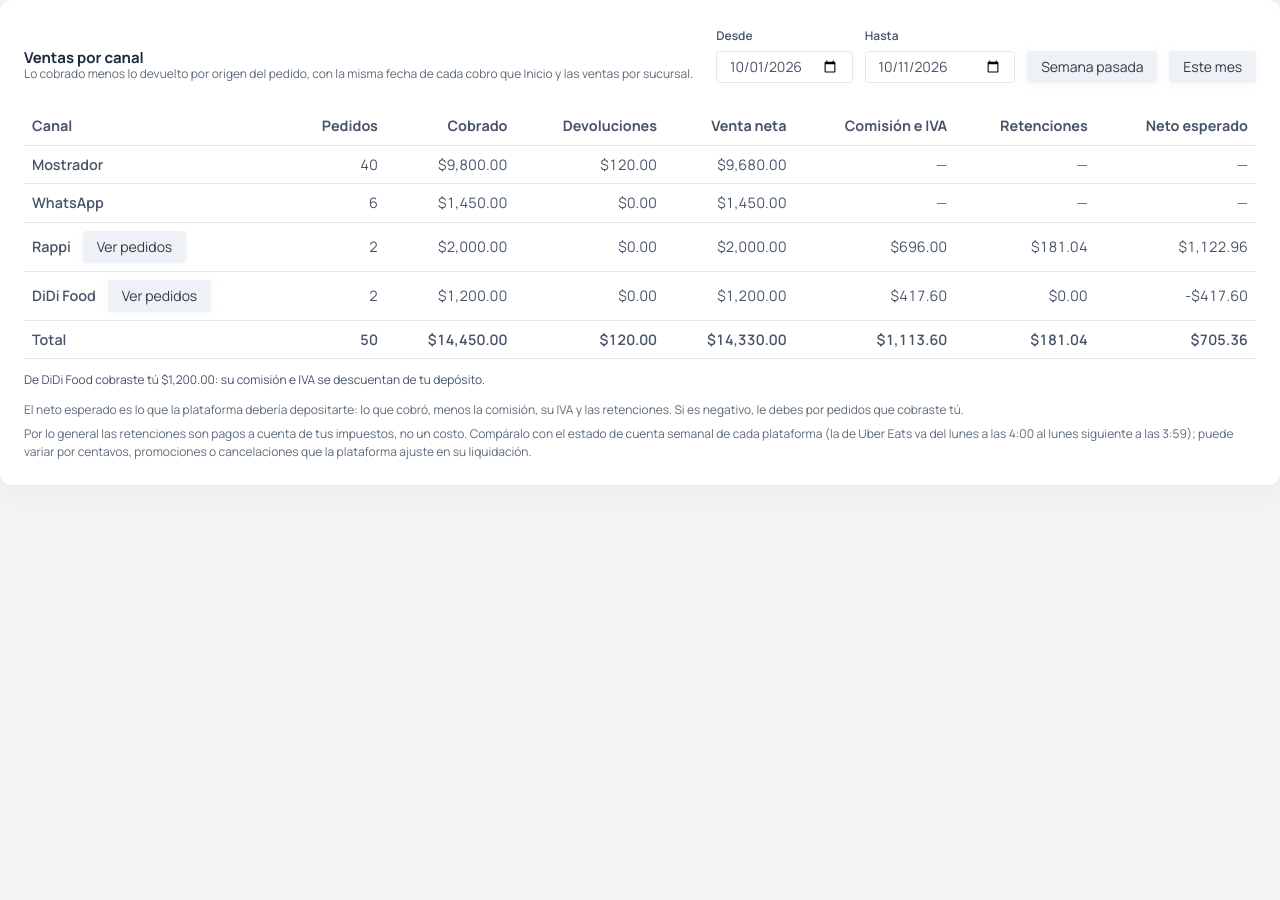
Scenario: SalesByChannelCard › lists the orders of a platform in the period of the report, each with what it copied when it was registered
The image size is (1280, 900).
Click the button with aria-label "Ver pedidos de Rappi" at (134, 247), box [83,231,186,263]
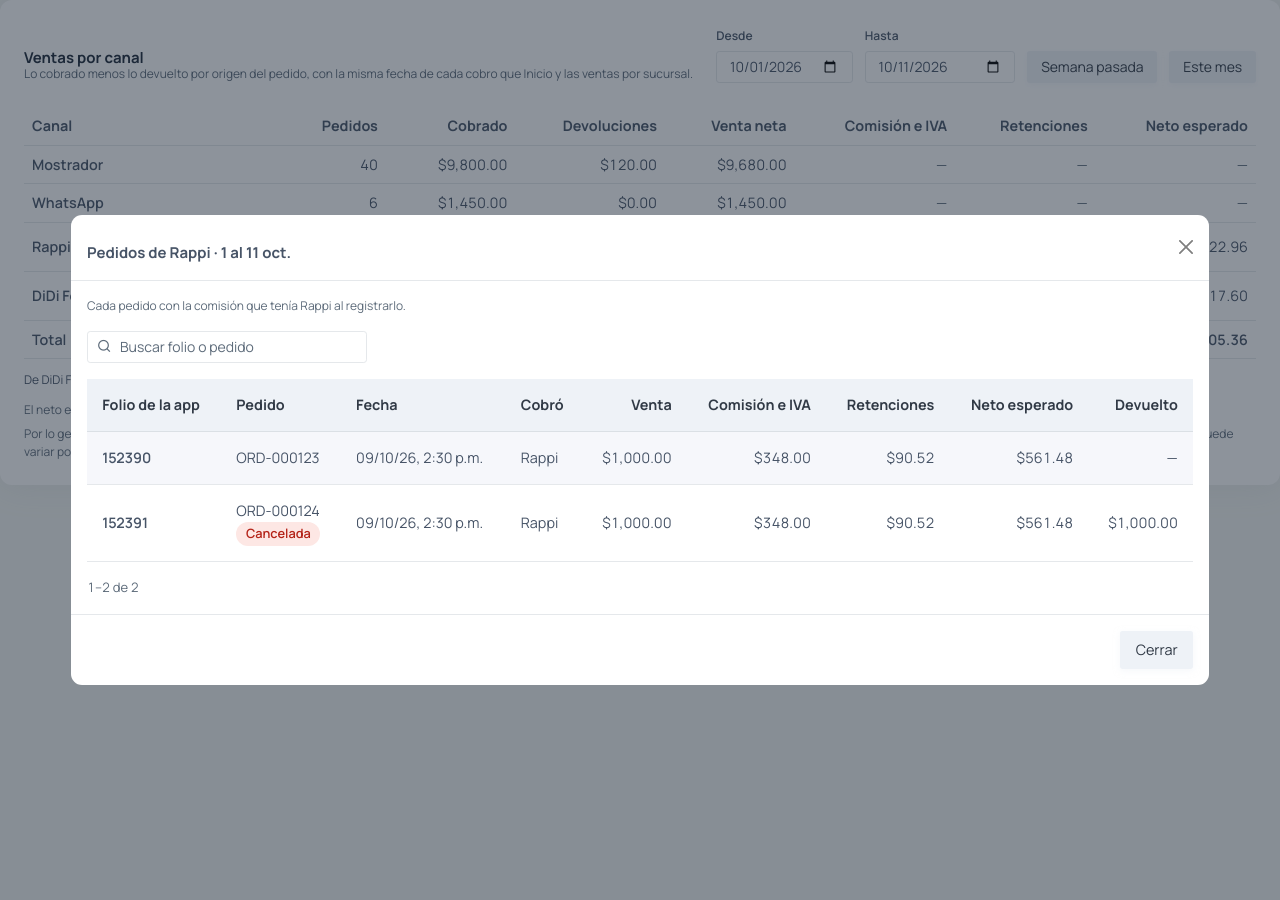
Result: the text "Cada pedido con la comisión que tenía Rappi al registrarlo." is shown at [87,297,406,314]
Result: the row "152390" shows "ORD-000123" at [236,448,320,467]
Result: the row "152390" shows "Rappi" at [521,448,558,467]
Click the button "Cerrar" at (1157, 650), box [1120,631,1193,669]
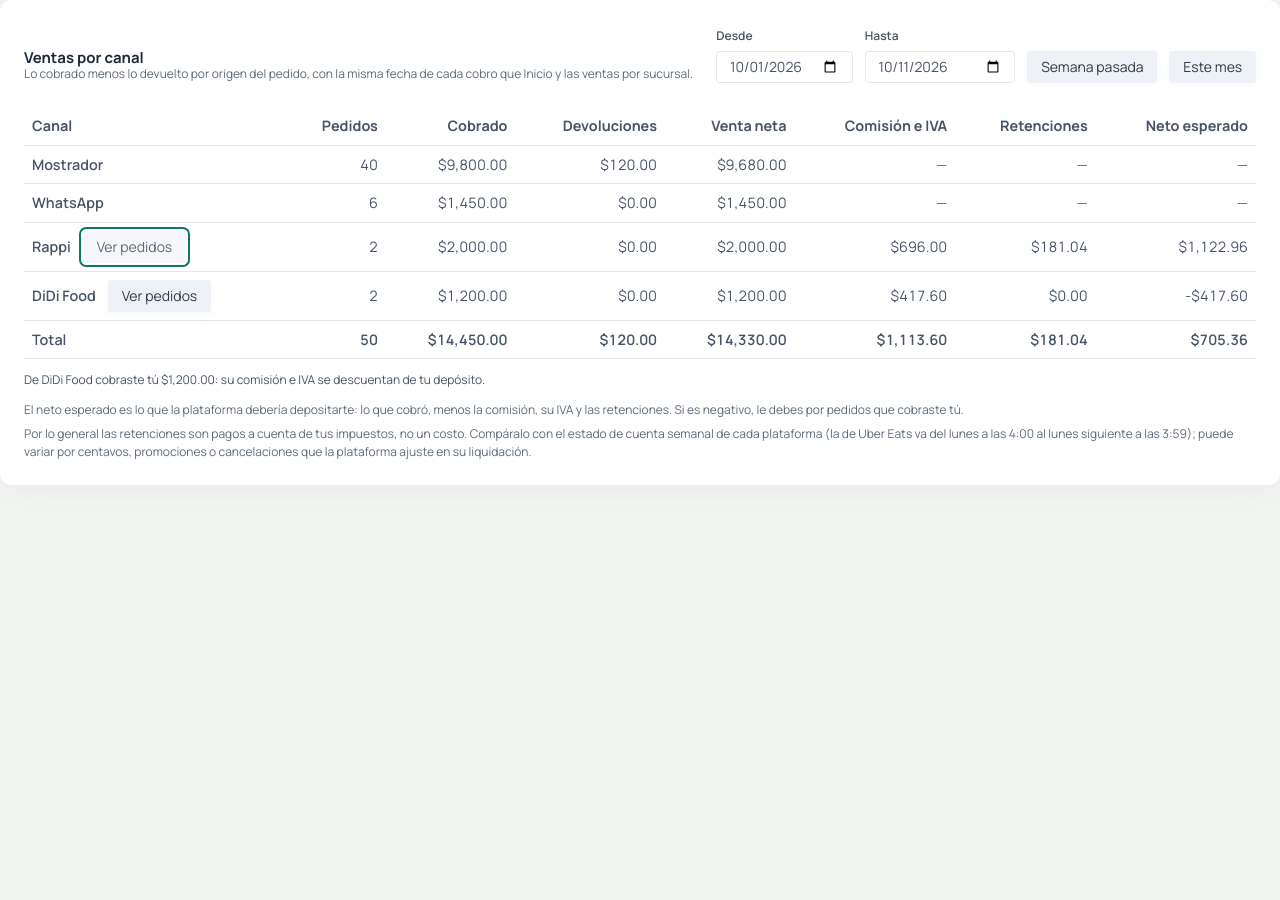
Result: the dialog is gone
